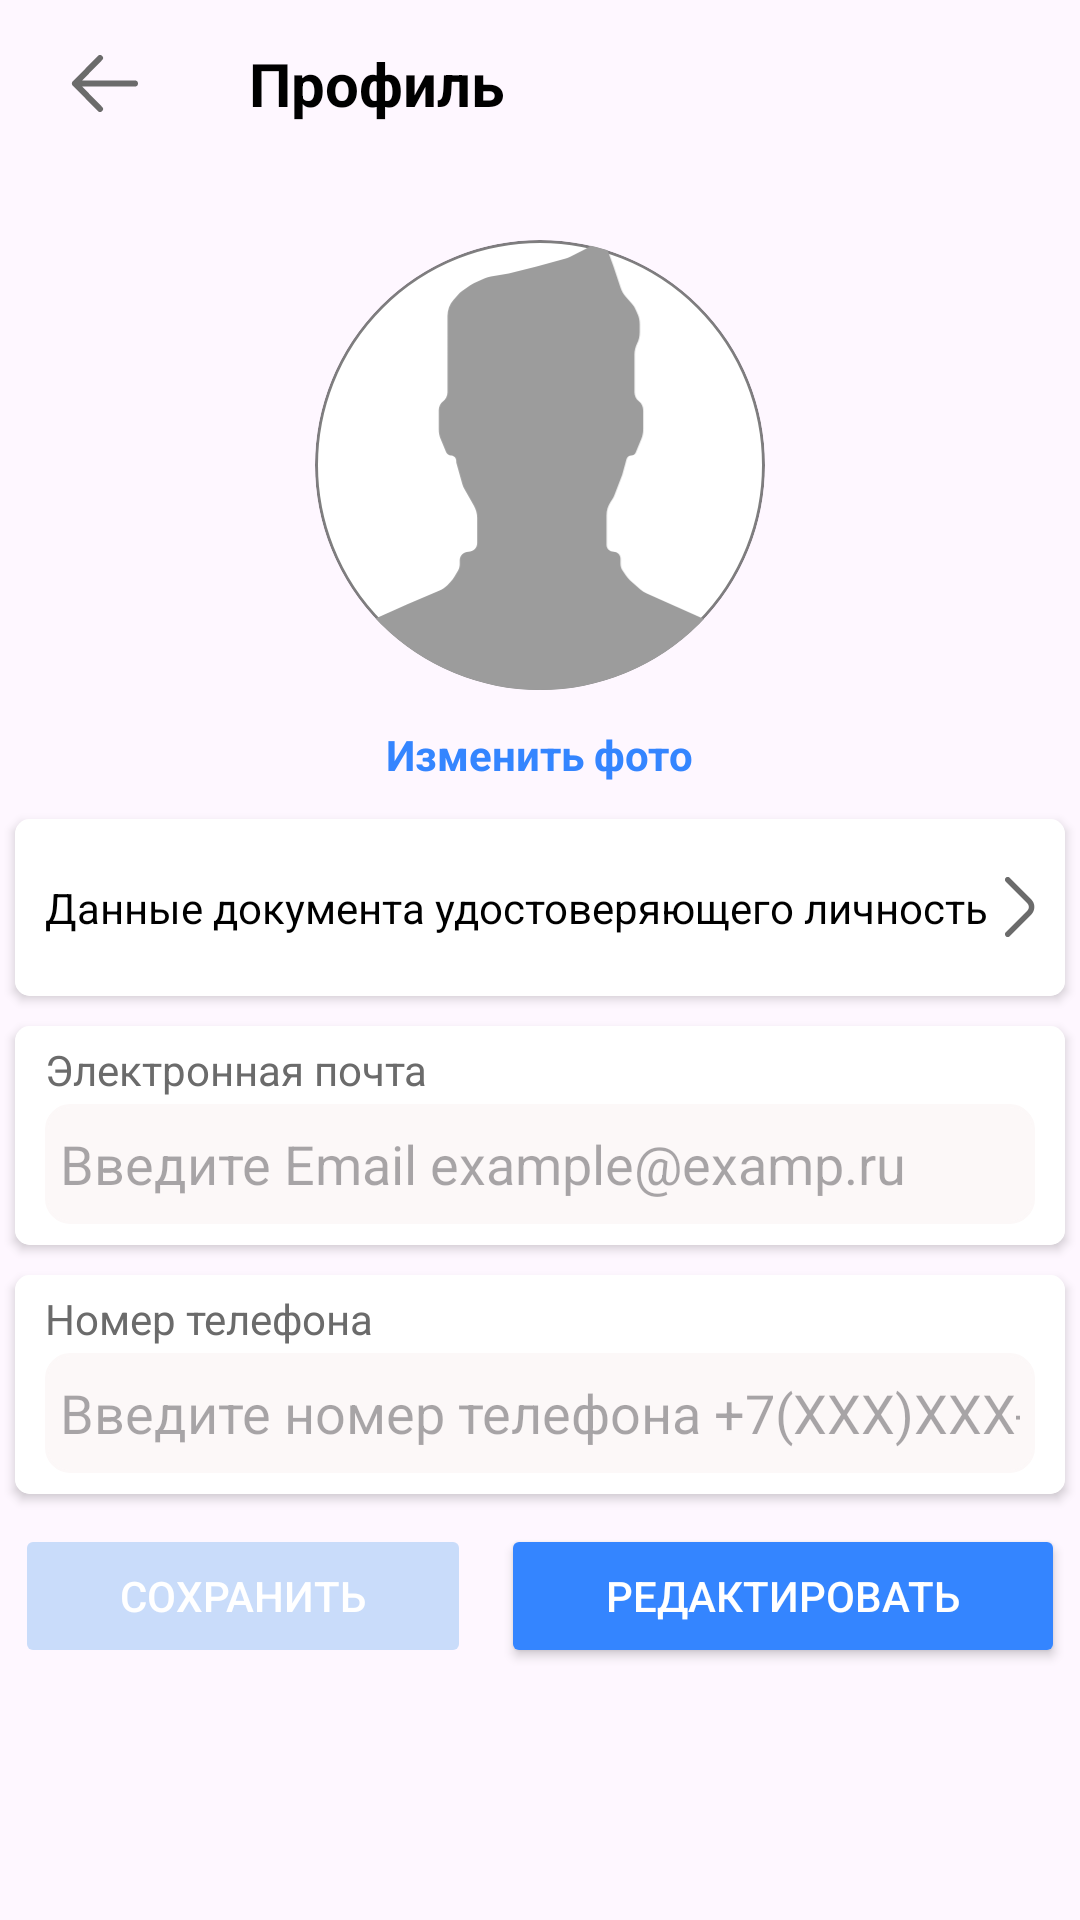

Icons on this 1080x1920 Android screen, each with its box as (x1, y1, x2, y2):
arrow right: (1005, 877, 1035, 937)
Назад: (72, 55, 138, 112)
